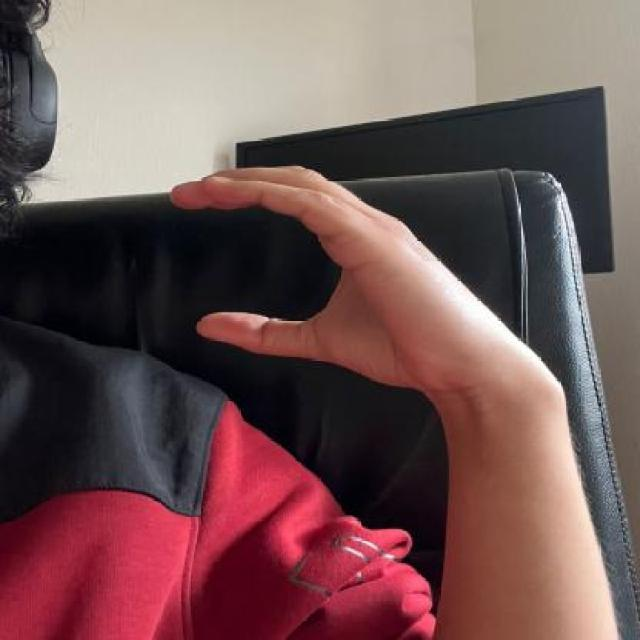C: (158, 158, 520, 399)
